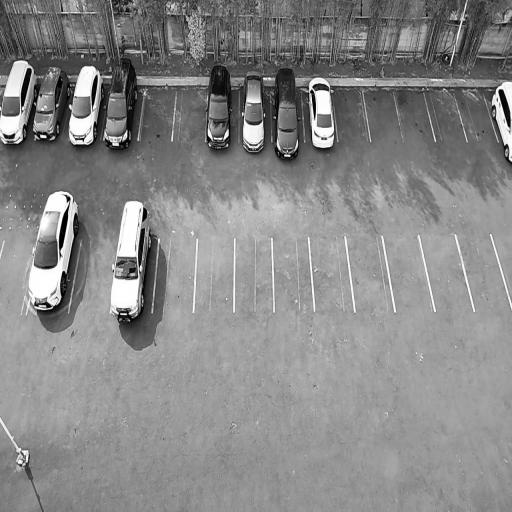Car: (23, 185, 85, 313), (107, 194, 154, 326), (0, 57, 42, 152), (102, 55, 141, 152), (66, 61, 109, 148), (30, 61, 74, 145), (271, 65, 301, 163), (484, 79, 512, 176), (306, 73, 338, 153), (205, 63, 232, 149), (241, 68, 266, 154)
Space Available: (455, 234, 512, 312), (419, 234, 474, 311), (382, 235, 435, 312), (346, 236, 395, 313), (309, 236, 354, 312), (152, 237, 197, 313), (68, 239, 115, 311), (273, 235, 315, 313), (194, 238, 235, 312), (234, 237, 274, 312), (0, 241, 34, 312), (424, 91, 467, 141), (394, 91, 435, 142), (454, 93, 498, 140), (363, 90, 403, 141), (332, 91, 371, 141), (139, 89, 177, 140), (172, 91, 207, 140)
